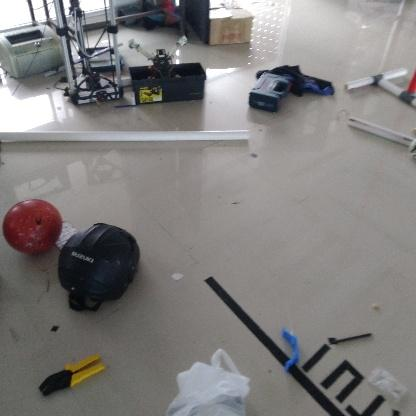red_buoy: (3, 197, 63, 257)
